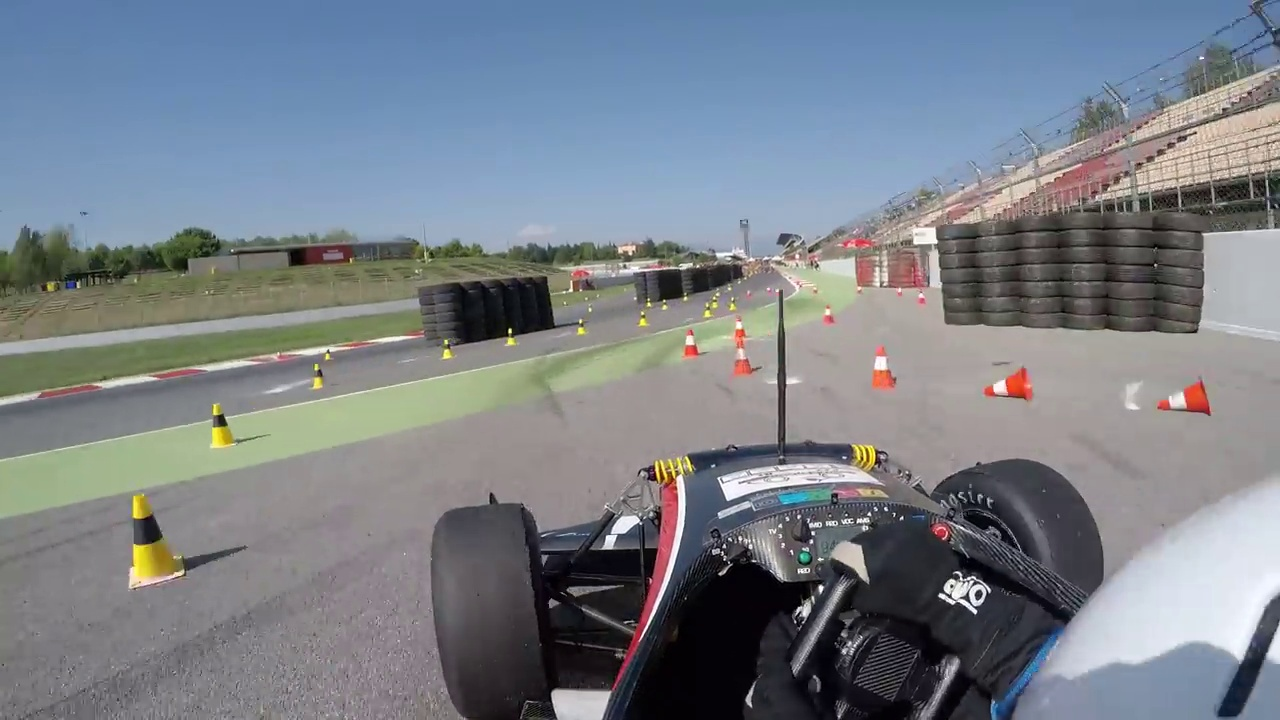Cone: (126, 490, 186, 593), (207, 399, 238, 452), (870, 344, 902, 391), (730, 338, 753, 376), (681, 325, 700, 357)
